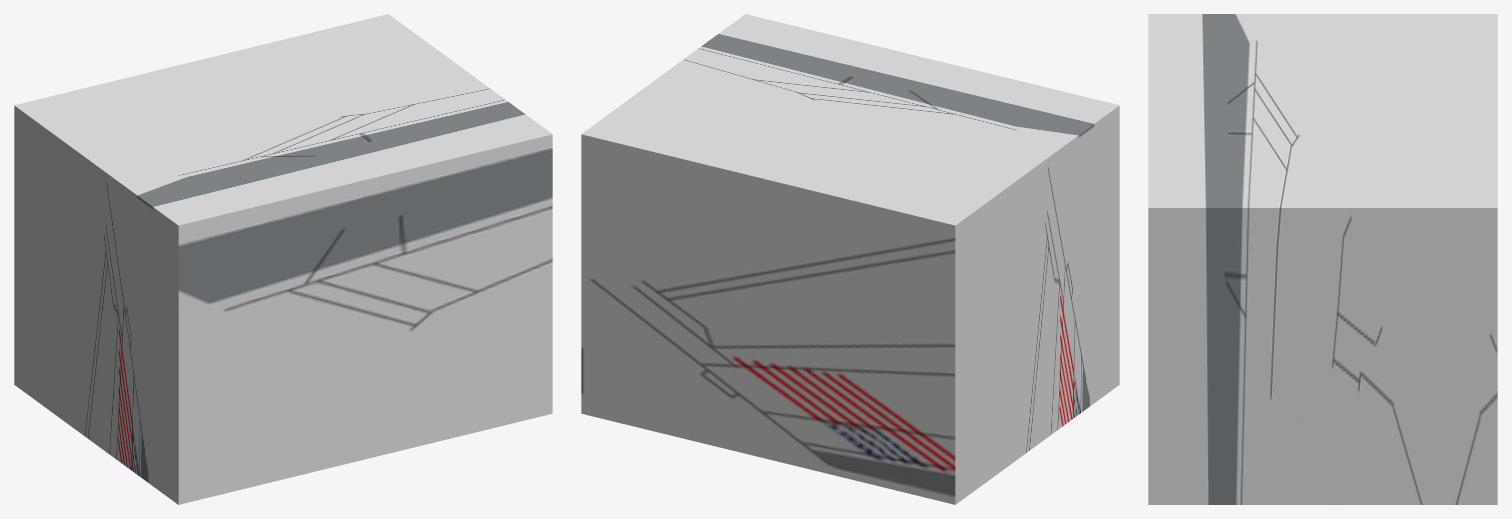
The picture shows the model from 3 angles, left to right: view 1: azimuth 30°, elevation 25°; view 2: azimuth 150°, elevation 25°; view 3: azimuth 270°, elevation 25°; orthographic projection. The views are drawn at different scales.
Bounding box in the file's own units: 412 × 294 × 313.
Materials: 1 (1 with a texture image).
